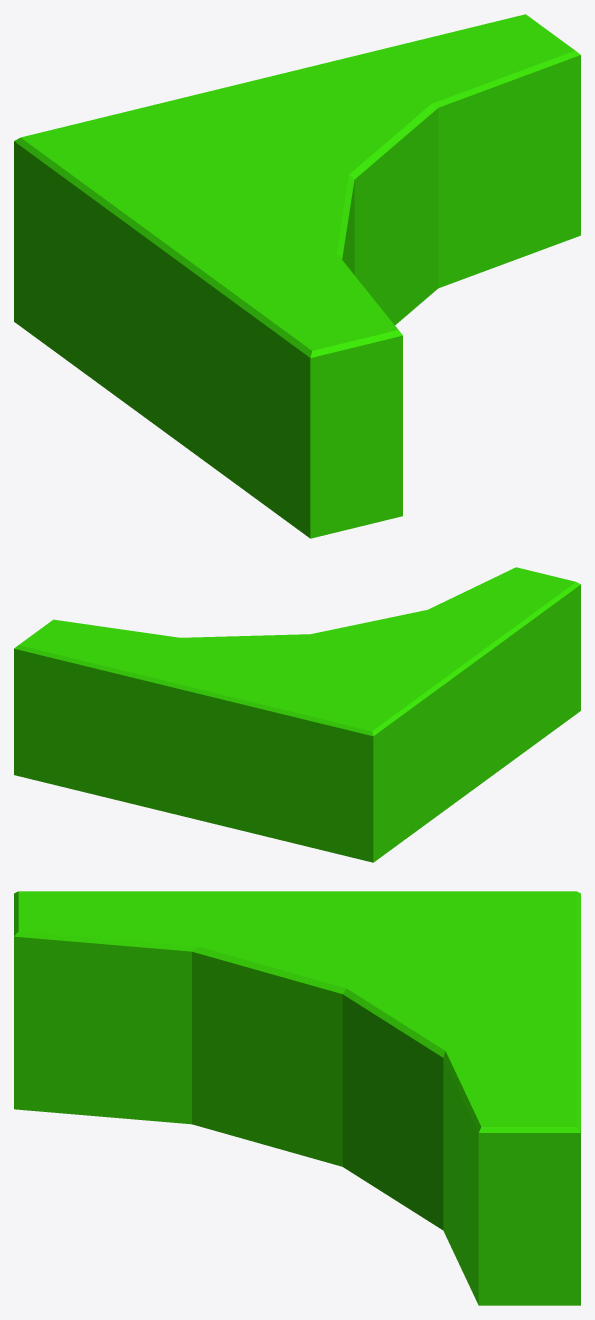
Rendered from round_5x2_04.fbx.
3 renders of one model, top to bottom at view 1: azimuth 30°, elevation 25°; view 2: azimuth 150°, elevation 25°; view 3: azimuth 270°, elevation 25°, orthographic. The views are drawn at different scales.
Parts seen in each view (by area): view 1: round_5x2_04; view 2: round_5x2_04; view 3: round_5x2_04.
Part boxes in pixels (x1,y1,x2,y2): round_5x2_04: (14,14,580,538); round_5x2_04: (14,567,580,862); round_5x2_04: (14,891,580,1305).
Size of the model in its own units: 610 by 210 by 610.
